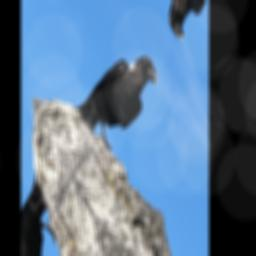Crow: (73, 14, 163, 173)
